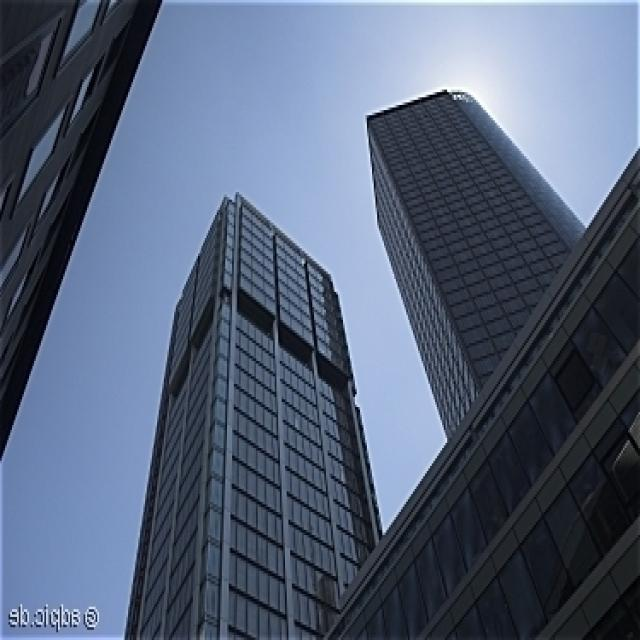building: (320, 147, 640, 640), (125, 189, 389, 640), (364, 82, 591, 446), (0, 0, 166, 469)
